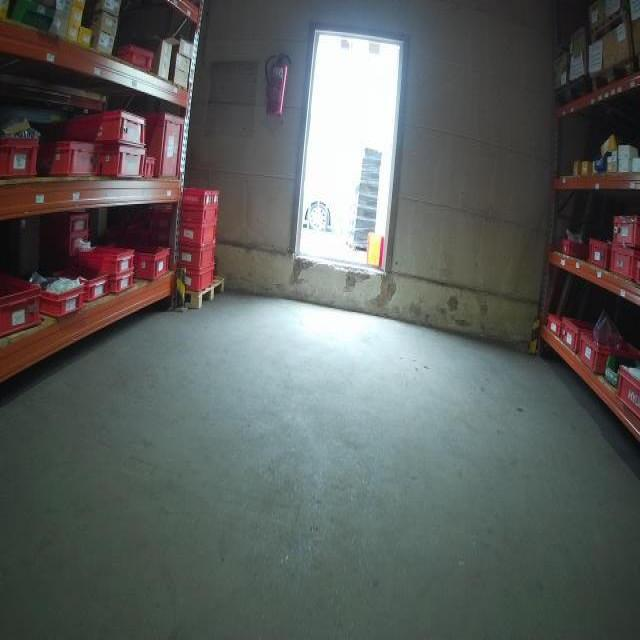pallet: (591, 57, 636, 95), (178, 276, 226, 310), (591, 4, 629, 43), (554, 75, 591, 109)
small_load_carrier: (66, 110, 154, 149), (141, 109, 183, 184), (0, 275, 45, 339), (558, 312, 623, 353), (2, 132, 43, 184), (576, 335, 633, 372), (41, 272, 82, 320), (40, 140, 91, 177), (86, 148, 146, 179), (40, 227, 93, 259), (81, 244, 133, 275), (612, 369, 638, 420), (136, 242, 168, 283), (607, 214, 640, 248), (108, 49, 156, 72), (45, 214, 91, 236), (182, 183, 224, 207), (175, 224, 216, 248), (181, 270, 216, 296), (83, 267, 109, 301), (174, 248, 215, 269), (588, 235, 612, 270), (609, 252, 633, 278), (108, 271, 131, 298), (557, 237, 582, 259), (136, 157, 155, 184), (180, 210, 216, 224), (546, 312, 559, 336), (634, 256, 640, 288)
